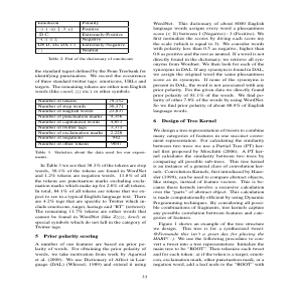table: (34, 97, 129, 150), (34, 19, 132, 55)
text: (151, 20, 266, 268), (35, 151, 147, 270), (32, 66, 146, 96)
